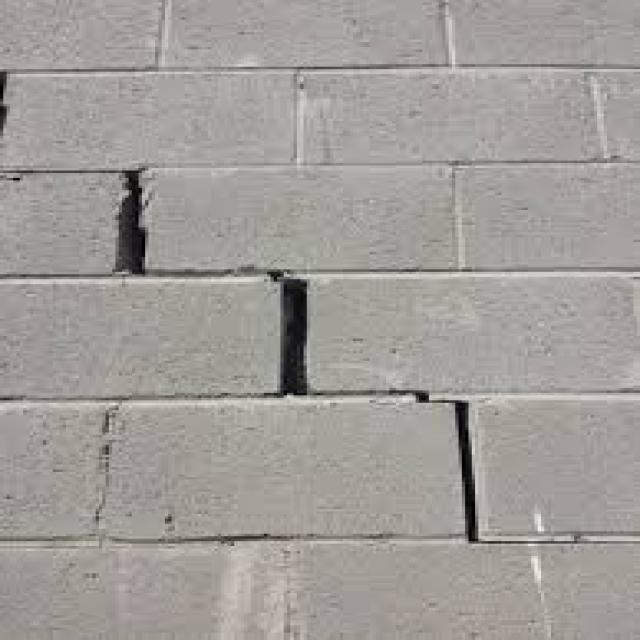Crack: (0, 163, 637, 544)
